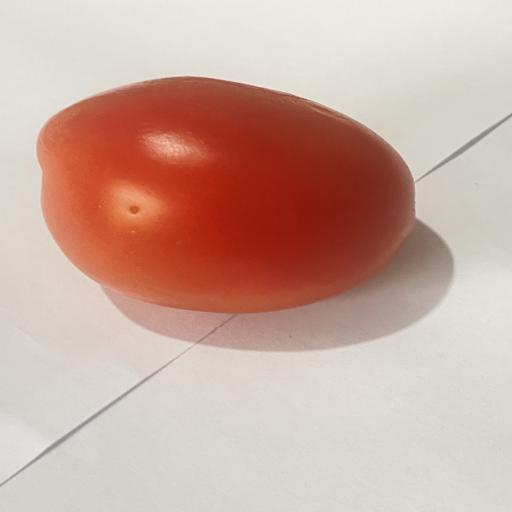ripe: (37, 77, 415, 313)
